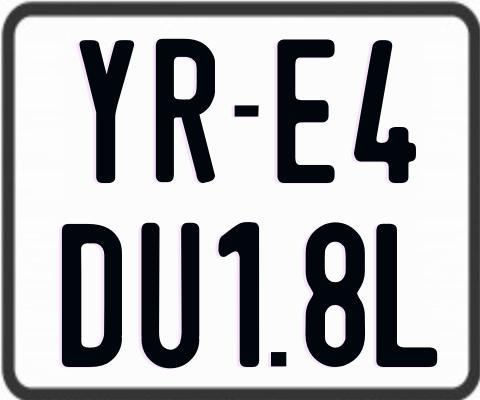1: (215, 222, 258, 373)
4: (352, 40, 416, 186)
8: (303, 220, 369, 366)
D: (60, 224, 123, 371)
E: (274, 37, 337, 184)
L: (374, 221, 440, 368)
R: (156, 39, 218, 183)
U: (138, 223, 198, 368)
Y: (76, 39, 132, 182)
